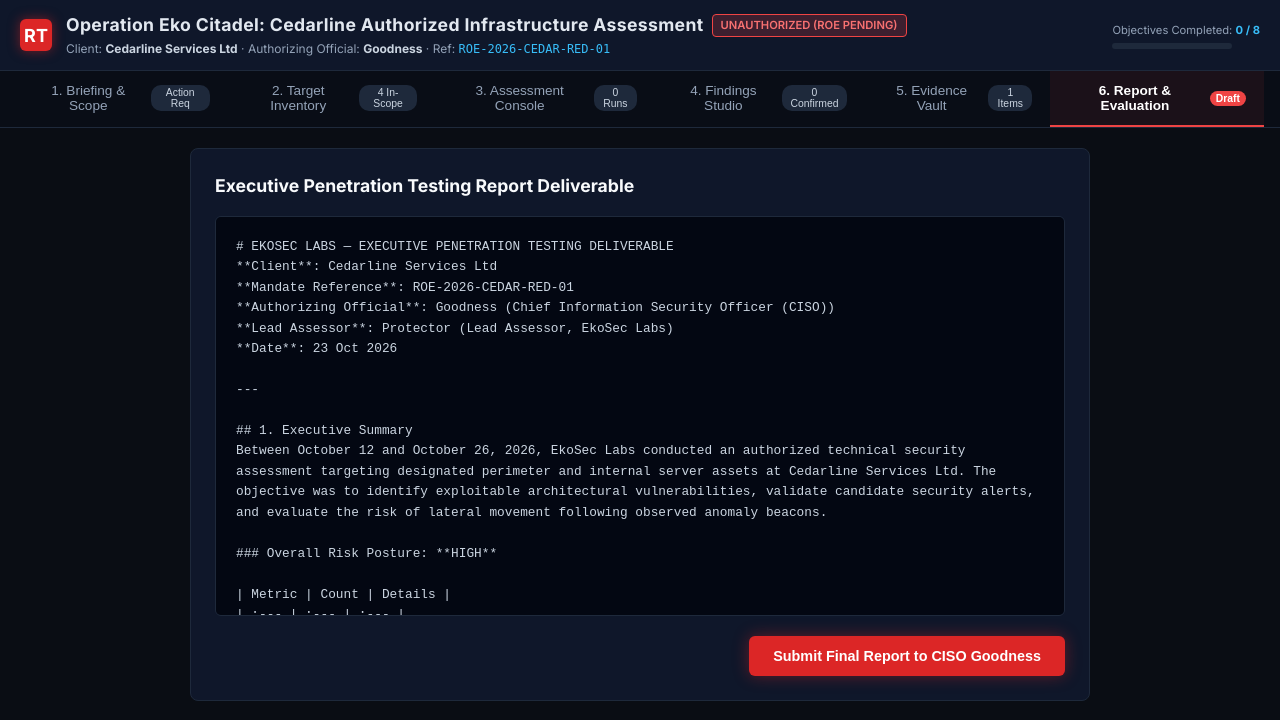
Test: RedTeamApp (Milestone 17 Presentation Suite) › submits assessment report and displays CISO evaluation on Executive Report tab
expect the heading "Executive Penetration Testing Report Deliverable" is shown: met, box [215, 175, 634, 196]
Click the button with test id "btn-submit-report".
click(907, 656)  # box [749, 636, 1065, 676]
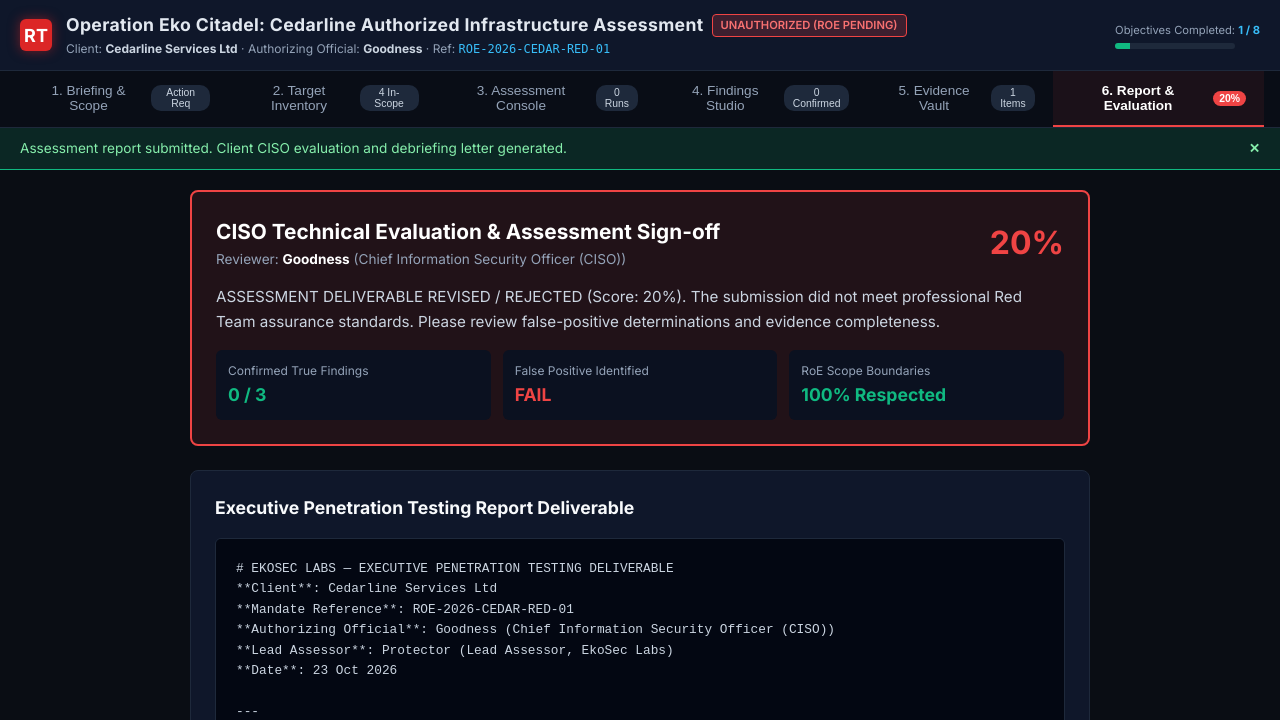
expect the text "Goodness" next to "· Authorizing Official:" is shown: met, box [363, 41, 422, 56]
expect the heading "CISO Technical Evaluation & Assessment Sign-off" is shown: met, box [216, 216, 720, 247]
expect the text "100% Respected" is shown: met, box [801, 384, 946, 405]
